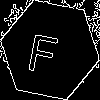F: (25, 25, 62, 75)
